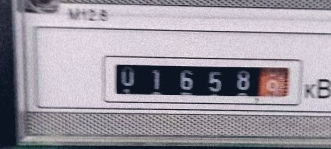0: (118, 65, 135, 86)
1: (148, 66, 162, 90)
5: (206, 69, 222, 93)
6: (177, 67, 195, 91)
8: (234, 69, 251, 91)
9: (263, 77, 279, 98)
screen: (99, 51, 305, 110)
